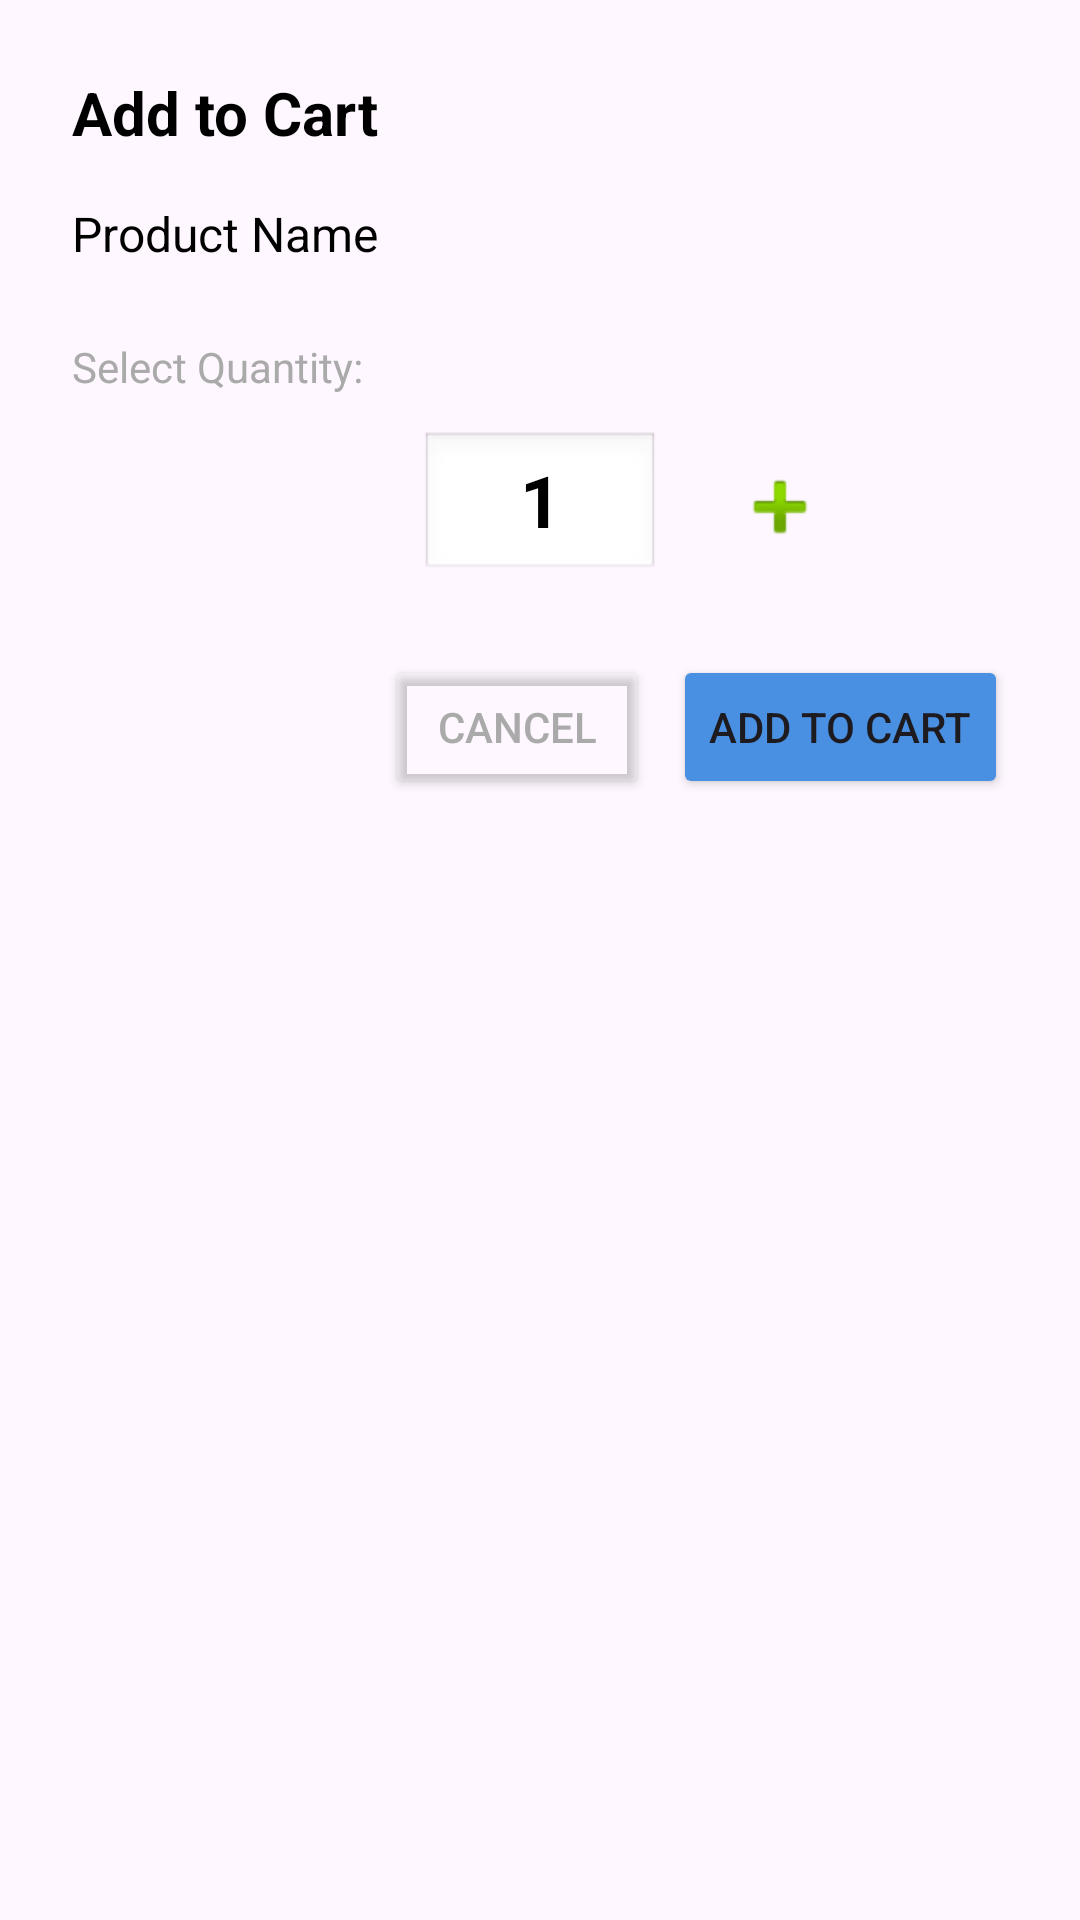

Named icons in this screenshot (1080 × 1920) and their centers, (x,y):
Increase quantity: (780,507)
